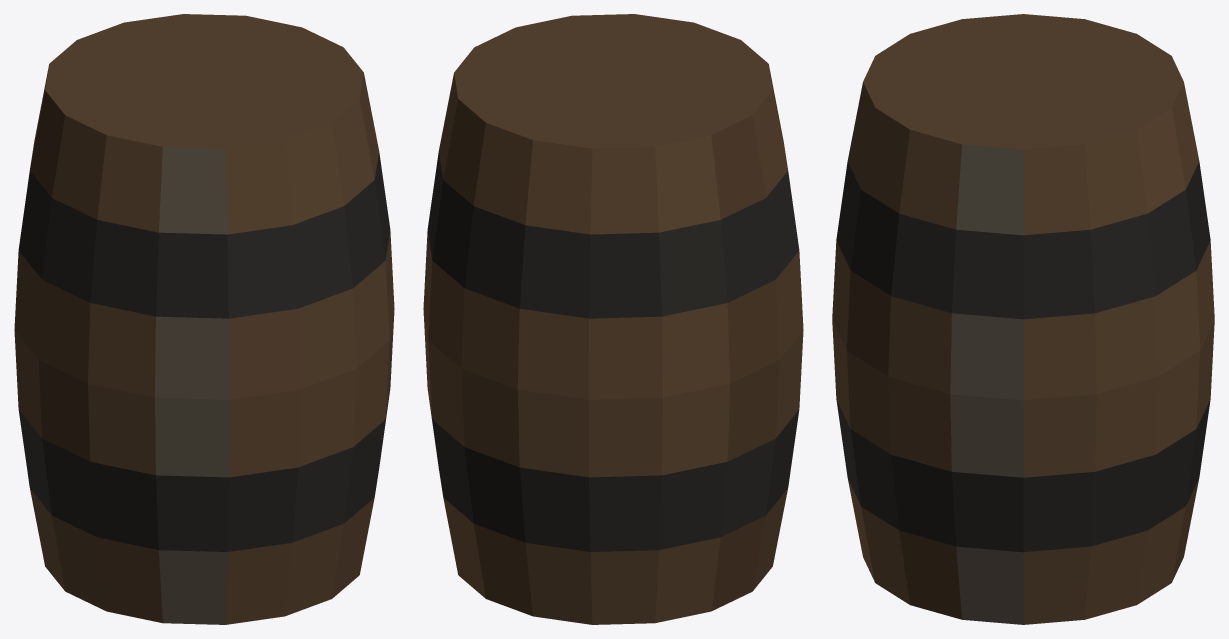
The model's file is barrel.glb.
The picture shows the model from 3 angles, left to right: view 1: azimuth 30°, elevation 25°; view 2: azimuth 150°, elevation 25°; view 3: azimuth 270°, elevation 25°; orthographic projection.
Visible parts, largest first — view 1: barrel; view 2: barrel; view 3: barrel.
Part boxes in pixels (box(x1,y1,x2,y2)): barrel: box(14, 14, 394, 624); barrel: box(423, 14, 803, 624); barrel: box(832, 14, 1214, 624).
Bounding box in the file's own units: 0.62 × 0.85 × 0.62.
